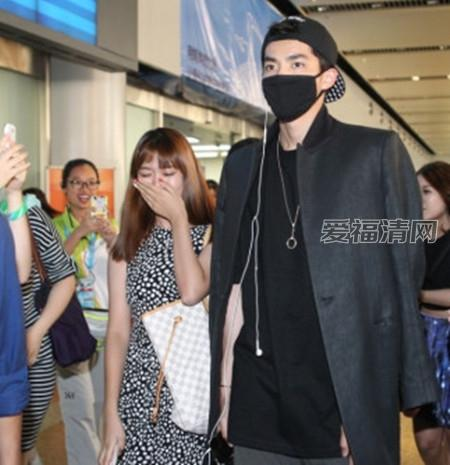NONE: (141, 167, 187, 213), (414, 179, 447, 220), (65, 175, 98, 210)
OK: (263, 52, 324, 117)
